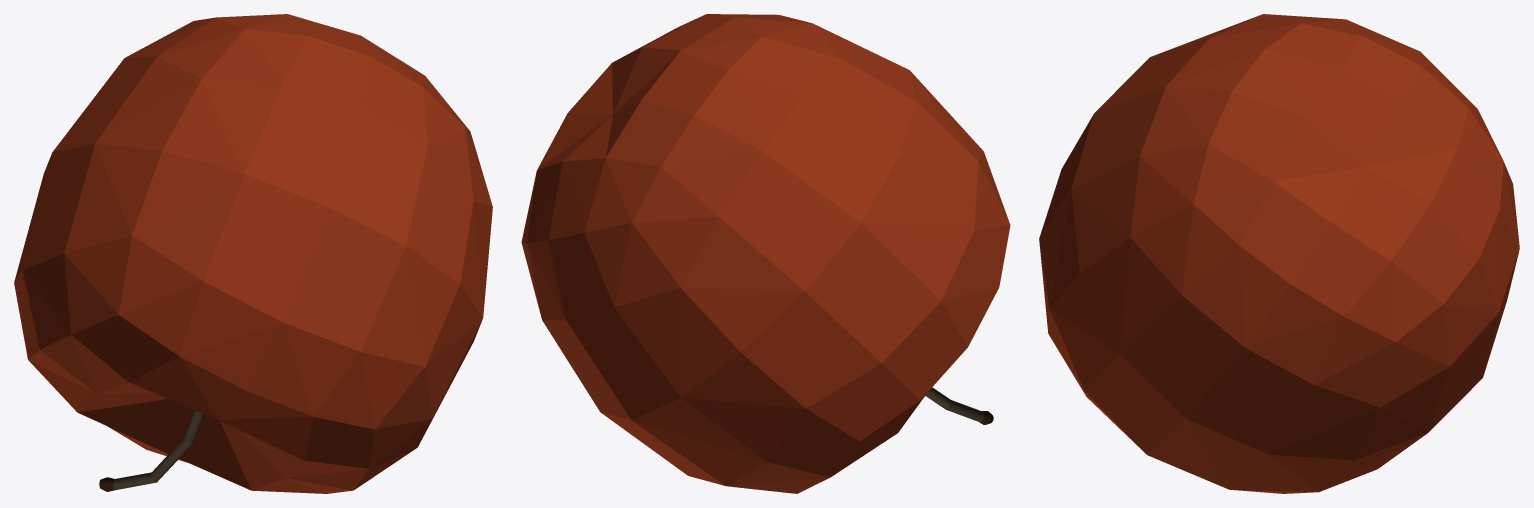
The model's file is reddApple.glb.
3 views of the same model, side by side, from view 1: azimuth 30°, elevation 25°; view 2: azimuth 150°, elevation 25°; view 3: azimuth 270°, elevation 25° (orthographic). The views are drawn at different scales.
Visible parts, largest first — view 1: Cube.001; view 2: Cube.001; view 3: Cube.001.
Boxes of the visible parts, left/top/right/bottom form: Cube.001: left=14, top=14, right=492, bottom=493; Cube.001: left=521, top=14, right=1010, bottom=493; Cube.001: left=1039, top=14, right=1519, bottom=493.
Size of the model in its own units: 3.27 by 3.36 by 3.25.
